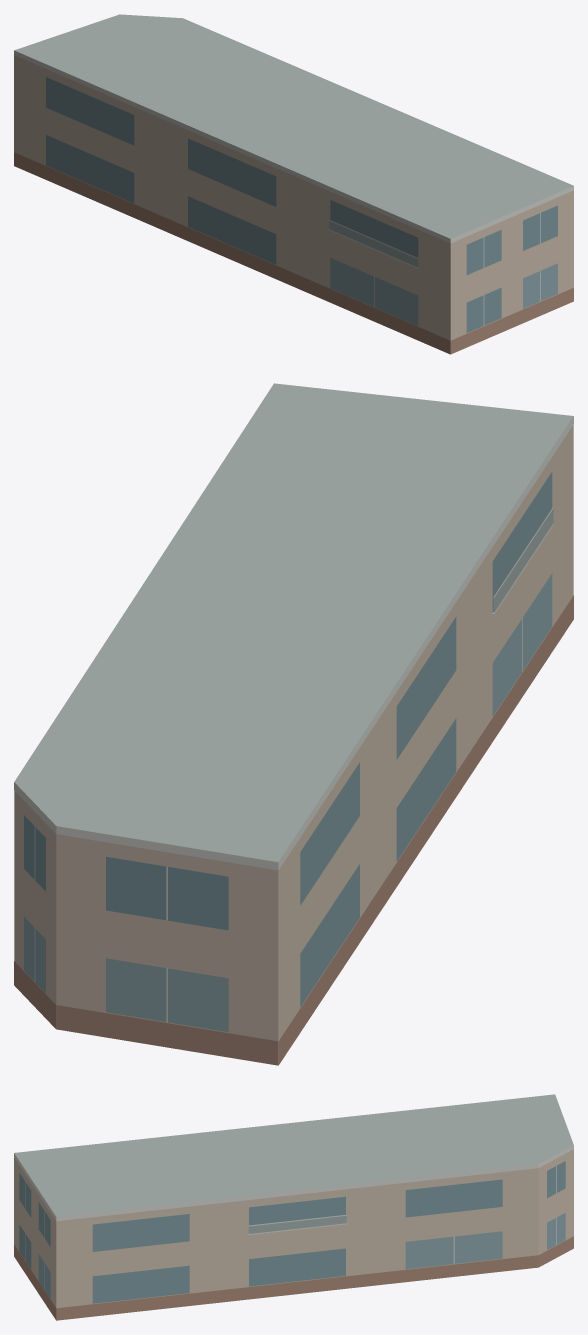
File: survey-upis-32961630.glb
3 views of the same model, one above another, from view 1: azimuth 30°, elevation 25°; view 2: azimuth 150°, elevation 25°; view 3: azimuth 270°, elevation 25° (orthographic). The views are drawn at different scales.
Visible parts, largest first — view 1: survey-upis-32961630.tmp; view 2: survey-upis-32961630.tmp; view 3: survey-upis-32961630.tmp.
Boxes of the visible parts, box(x1,y1,x2,y2) form: survey-upis-32961630.tmp: box(14, 14, 573, 354); survey-upis-32961630.tmp: box(14, 383, 573, 1065); survey-upis-32961630.tmp: box(14, 1094, 573, 1320).
Bounding box in the file's own units: 15.53 × 6.1 × 29.9.
